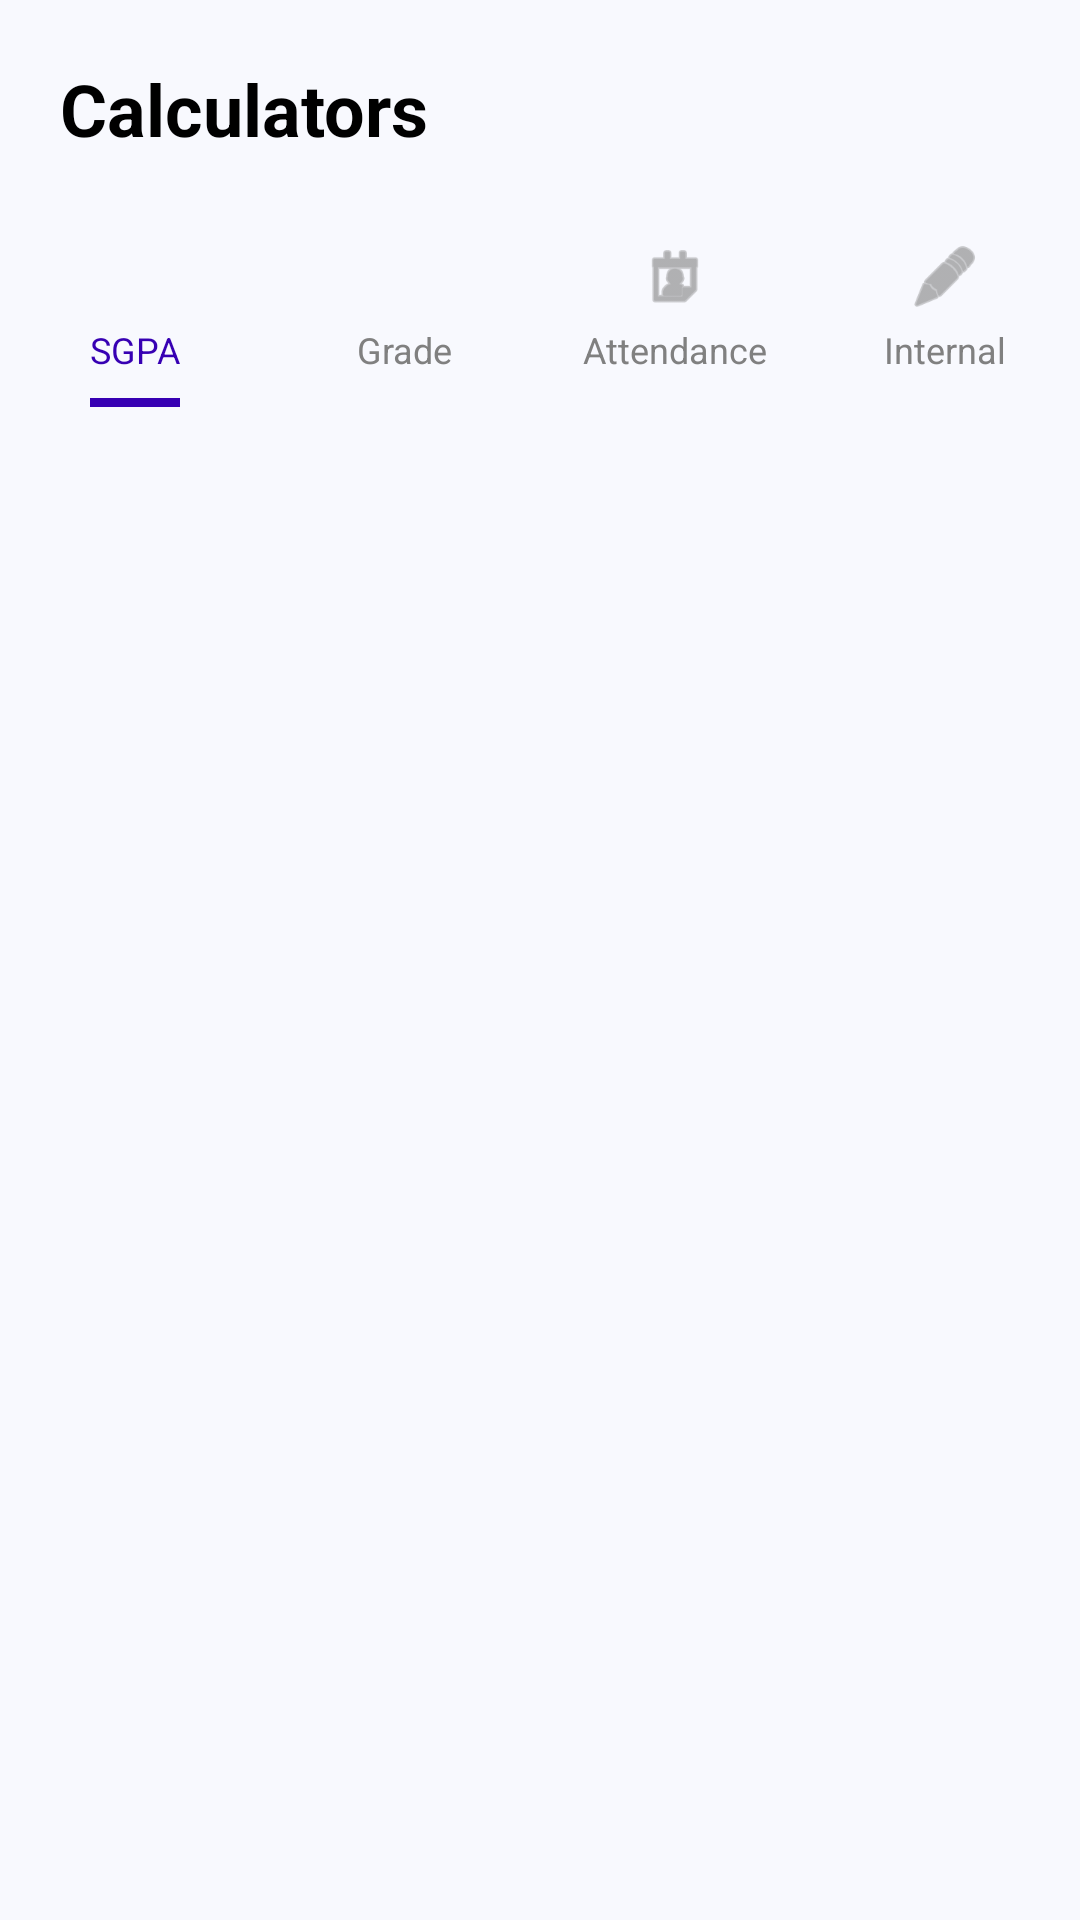

Icons on this 1080px×1920px Android screen, each with the point to tap as (x,y):
calendar: (675,276)
edit: (944,276)
